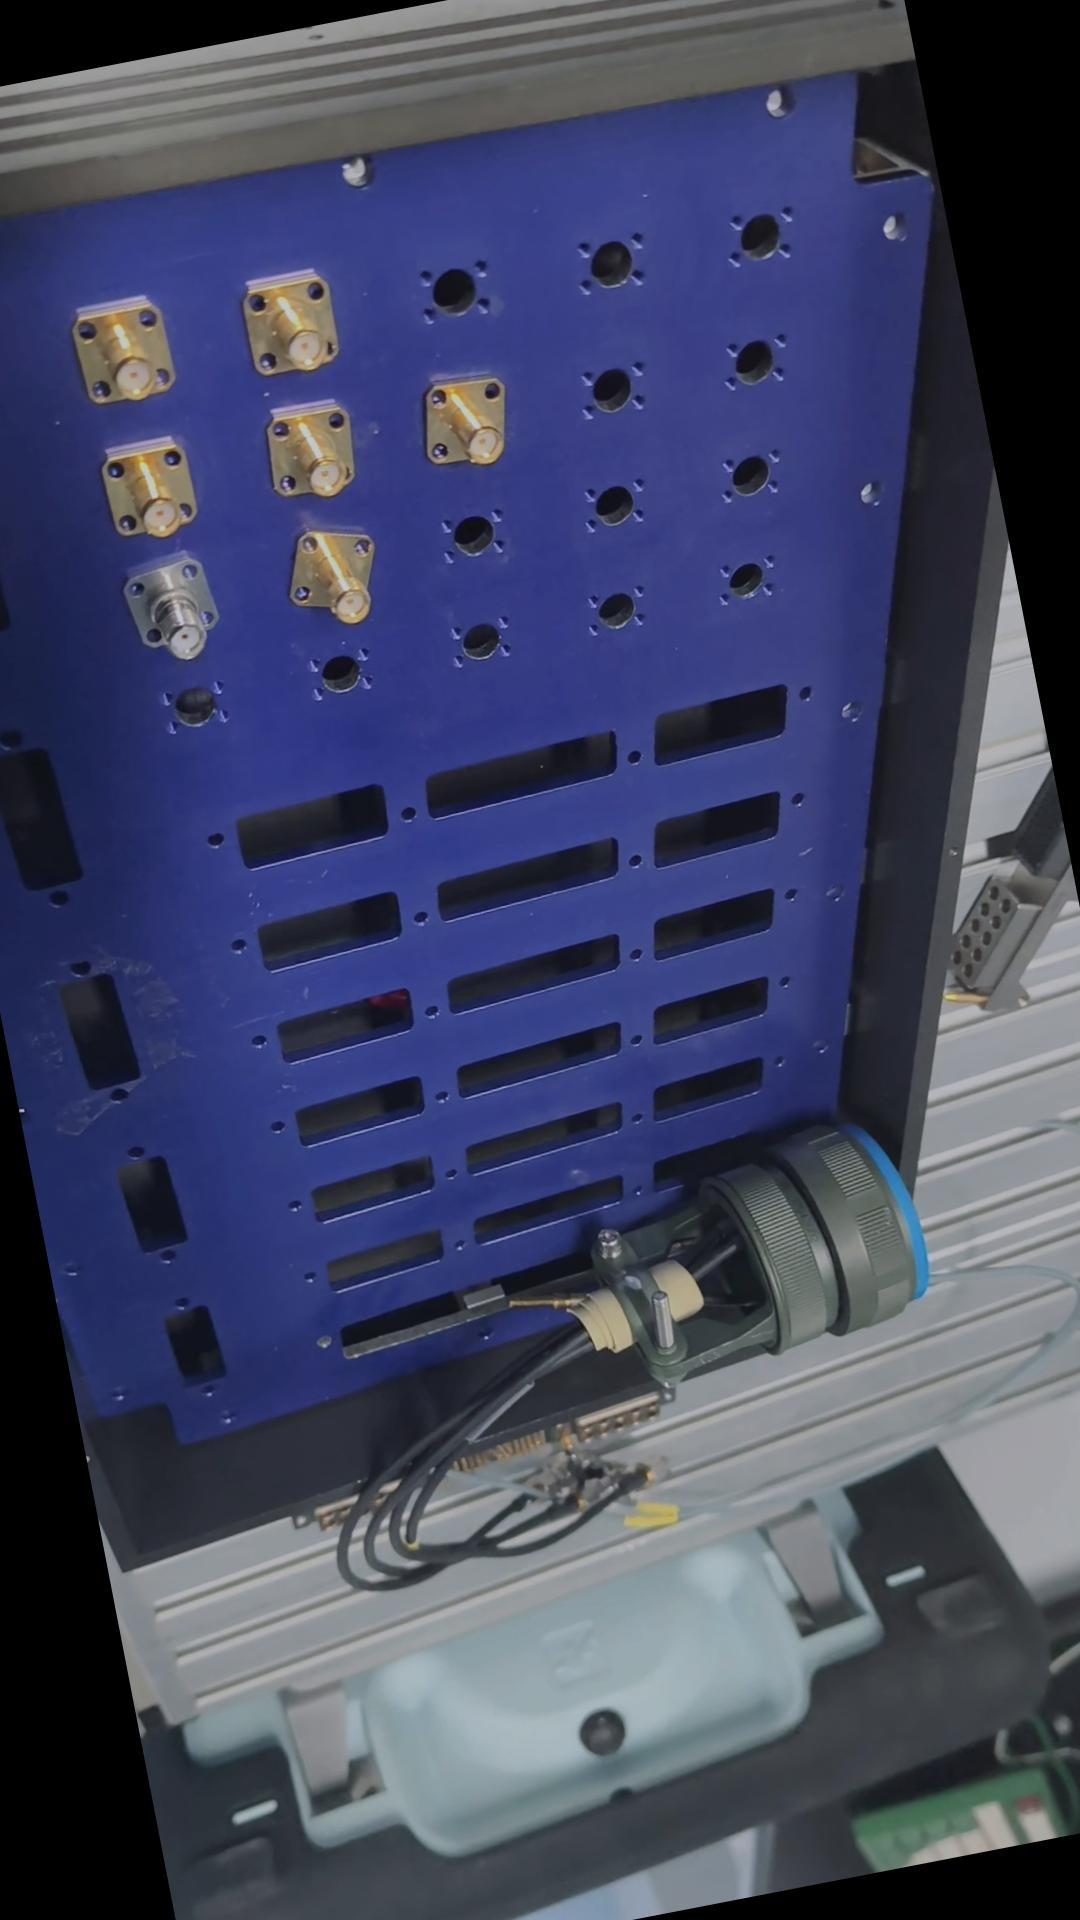SMA: (70, 286, 189, 417), (113, 549, 229, 667), (236, 262, 349, 382), (286, 513, 394, 632), (100, 433, 204, 541), (418, 364, 517, 473), (270, 398, 364, 505)
